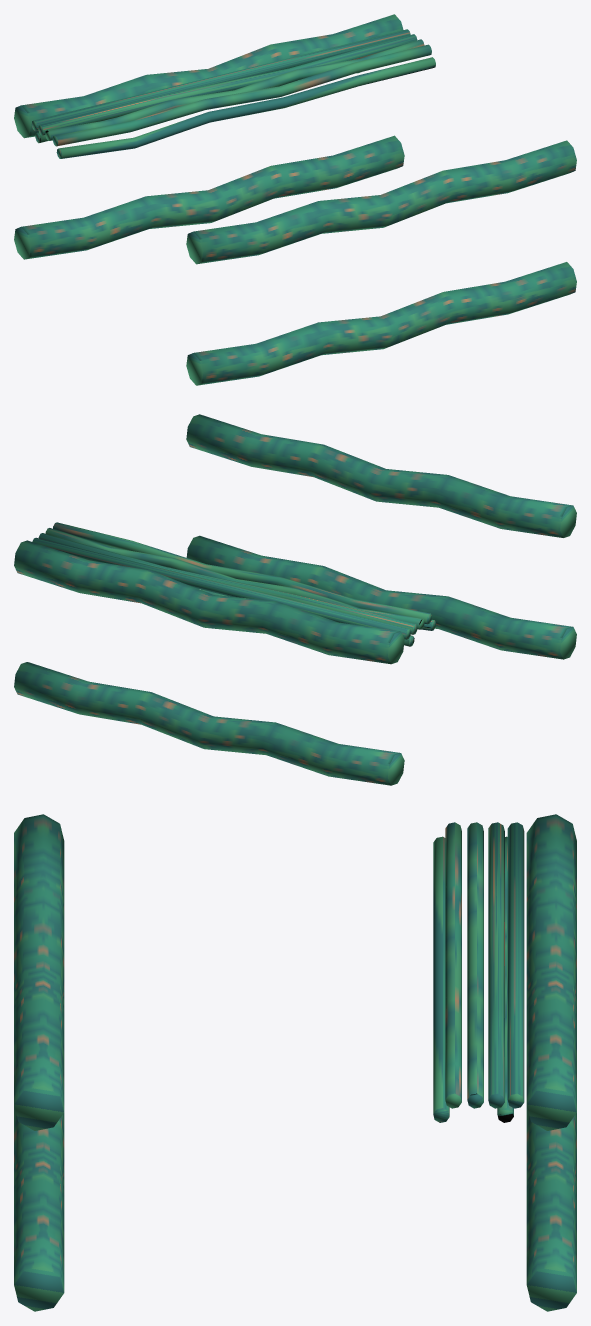
The model's file is PipeTenticke.fbx.
The picture shows the model from 3 angles, top to bottom: view 1: azimuth 30°, elevation 25°; view 2: azimuth 150°, elevation 25°; view 3: azimuth 270°, elevation 25°; orthographic projection. The views are drawn at different scales.
Visible parts, largest first — view 1: Cylinder.006; view 2: Cylinder.006; view 3: Cylinder.006.
Part boxes in pixels (bbox=[...]): Cylinder.006: bbox=[14, 14, 576, 385]; Cylinder.006: bbox=[14, 414, 576, 785]; Cylinder.006: bbox=[14, 814, 576, 1311].
Bounding box in the file's own units: 322 × 133 × 283.
